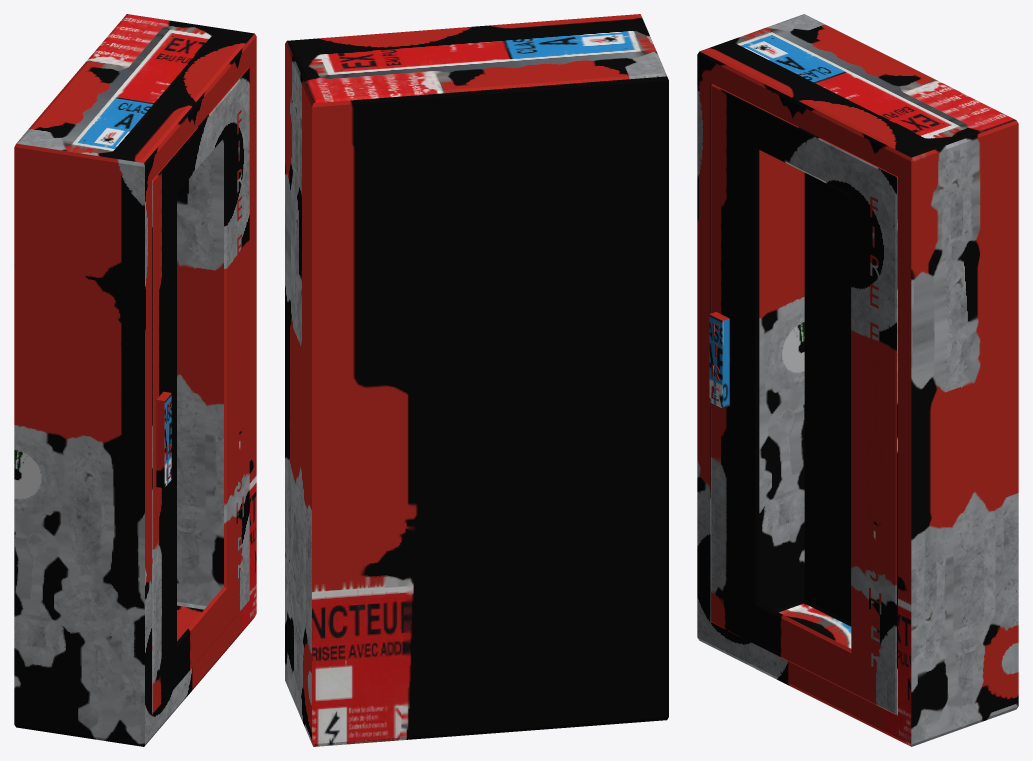
The model's file is EXTINGUISHER BOX.fbx.
The picture shows the model from 3 angles, left to right: view 1: azimuth 30°, elevation 25°; view 2: azimuth 150°, elevation 25°; view 3: azimuth 270°, elevation 25°; orthographic projection. The views are drawn at different scales.
Parts seen in each view (by area): view 1: extinguisher box.001; view 2: extinguisher box.001; view 3: extinguisher box.001.
Part boxes in pixels (x1=…): extinguisher box.001: x1=14, y1=14, x2=256, y2=746; extinguisher box.001: x1=285, y1=14, x2=668, y2=746; extinguisher box.001: x1=697, y1=14, x2=1018, y2=746.
Size of the model in its own units: 207 by 394 by 194.
